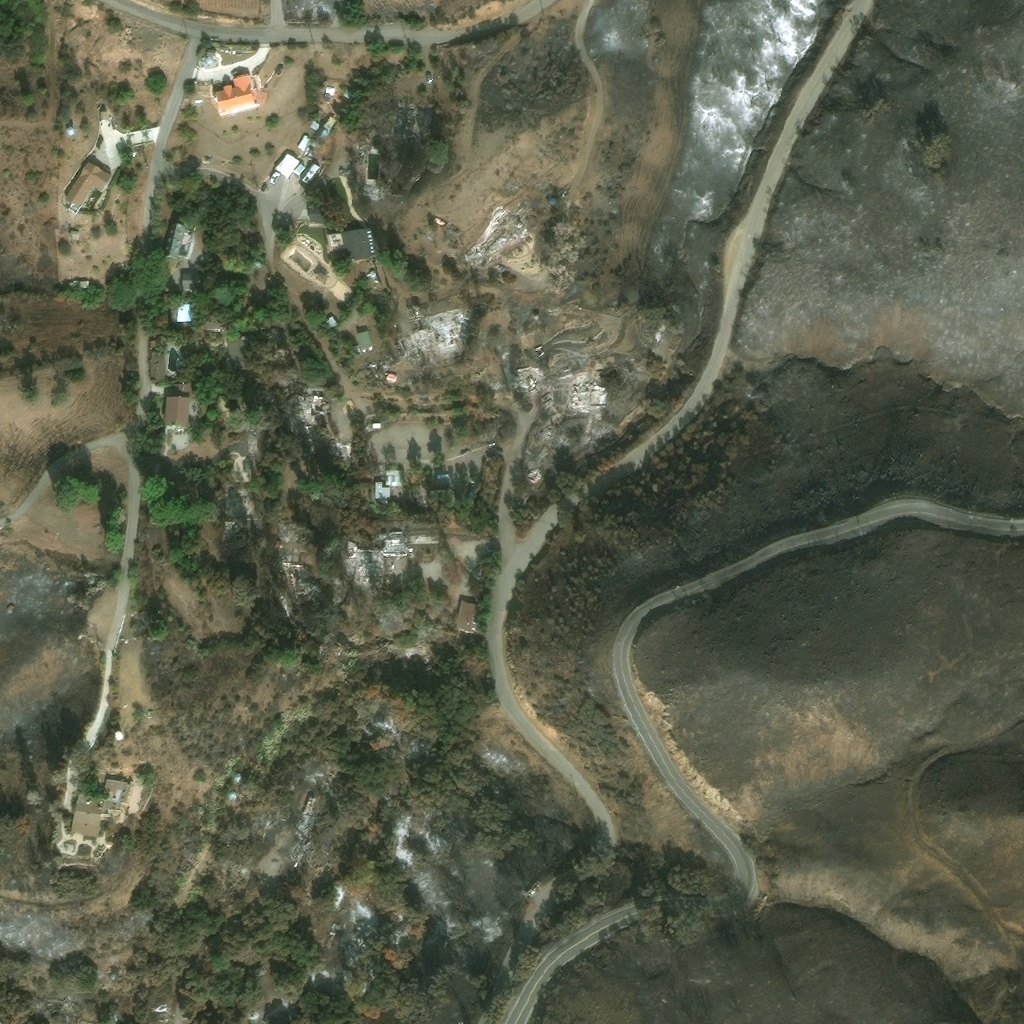0 no-damage: (69, 777, 130, 838), (65, 160, 111, 207), (215, 72, 267, 111), (326, 226, 378, 261), (158, 385, 191, 436), (161, 221, 196, 258), (192, 315, 222, 350), (455, 600, 478, 636), (272, 152, 304, 177), (227, 335, 251, 363), (169, 298, 191, 321), (181, 270, 201, 292), (196, 48, 219, 67), (354, 330, 373, 351), (306, 201, 324, 223), (373, 482, 390, 505), (150, 351, 163, 380), (385, 470, 402, 487), (196, 81, 212, 97), (316, 123, 332, 139), (148, 334, 165, 349), (66, 279, 90, 289), (297, 133, 310, 149), (325, 315, 339, 329), (365, 268, 378, 280), (365, 420, 380, 430), (68, 230, 80, 241), (309, 119, 320, 131), (113, 730, 123, 741), (63, 126, 73, 136), (306, 146, 314, 158), (231, 773, 241, 782), (385, 376, 395, 385), (228, 791, 237, 800), (357, 322, 368, 329), (346, 87, 352, 99), (99, 112, 107, 120), (310, 138, 318, 146), (170, 323, 191, 326), (547, 198, 556, 205), (326, 86, 334, 93), (210, 348, 217, 355), (323, 94, 330, 101), (533, 313, 540, 320), (254, 260, 261, 266), (317, 107, 323, 112), (219, 344, 224, 349)
2 major-damage: (432, 216, 461, 235)
3 destroyed: (398, 303, 468, 360), (462, 208, 527, 269), (353, 542, 412, 581), (273, 547, 308, 607), (392, 103, 429, 137), (572, 373, 602, 406), (218, 441, 249, 471), (328, 440, 352, 469), (217, 395, 241, 418), (305, 391, 324, 418), (520, 365, 537, 395), (224, 494, 247, 514), (547, 301, 579, 315), (348, 352, 369, 373), (637, 327, 653, 354), (309, 766, 325, 791), (293, 808, 312, 829), (354, 183, 384, 195), (306, 430, 324, 448), (513, 202, 529, 220), (407, 535, 439, 543), (526, 468, 543, 483), (388, 338, 401, 357), (531, 343, 546, 358), (544, 402, 559, 416), (385, 528, 403, 539), (276, 520, 290, 534), (411, 301, 427, 313), (396, 300, 408, 314), (444, 489, 458, 501), (553, 390, 568, 400), (375, 368, 388, 379), (402, 375, 419, 383), (492, 262, 505, 272), (558, 189, 569, 200), (248, 432, 255, 448), (464, 491, 477, 499), (544, 427, 554, 437), (266, 327, 277, 336), (221, 484, 235, 491), (473, 302, 482, 310), (636, 371, 644, 379), (348, 540, 357, 547), (573, 408, 584, 413), (566, 200, 571, 211), (389, 564, 396, 570), (408, 97, 415, 103), (384, 574, 389, 582), (378, 530, 383, 537), (390, 371, 396, 375), (416, 97, 420, 103)
4 un-classified: (156, 390, 165, 398)
